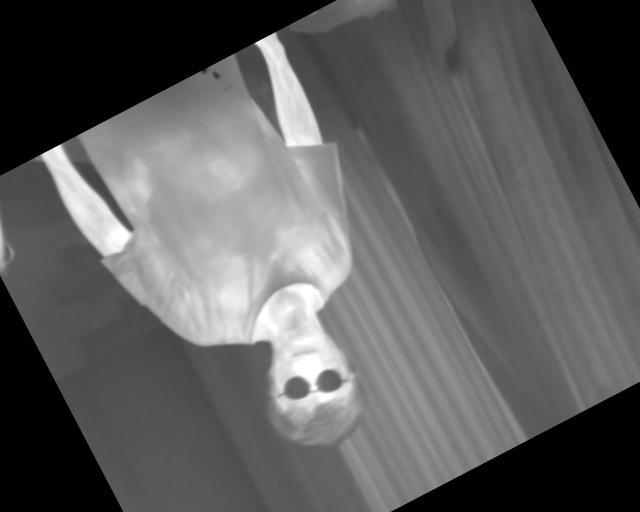face: (235, 309, 384, 469)
